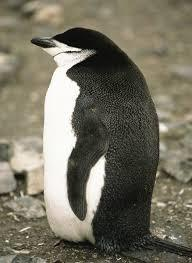chinstrap: (25, 20, 191, 261)
